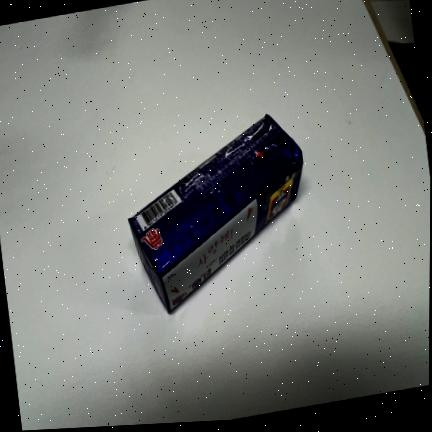cracker_ace: (128, 113, 302, 312)
